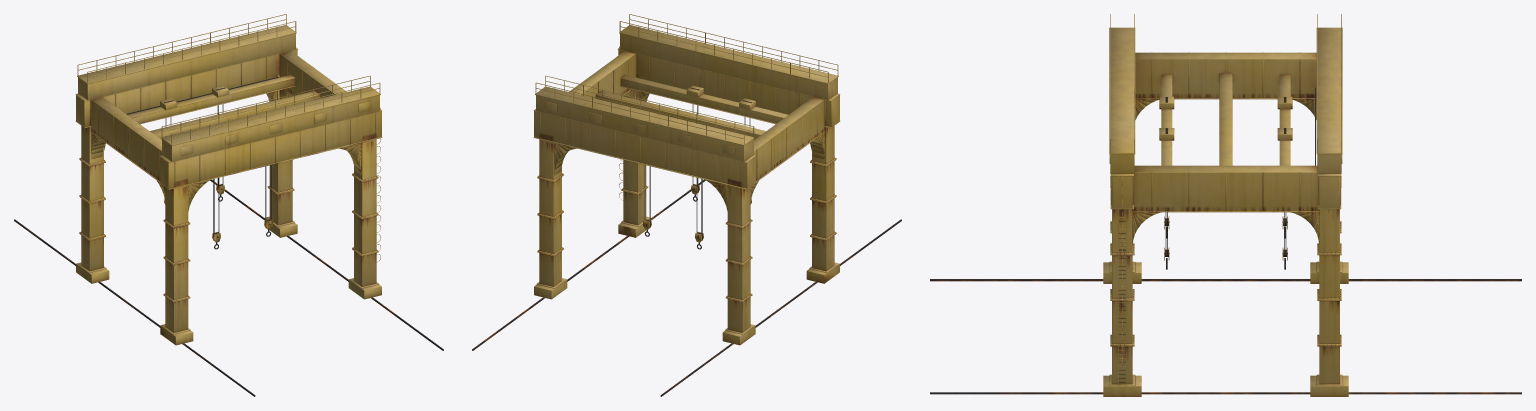
Rendered from port_gantry.glb.
3 views of the same model, side by side, from view 1: azimuth 30°, elevation 25°; view 2: azimuth 150°, elevation 25°; view 3: azimuth 270°, elevation 25° (orthographic). The views are drawn at different scales.
Visible parts, largest first — view 1: gantry; view 2: gantry; view 3: gantry.
Boxes of the visible parts, left/top/right/bottom form: gantry: left=14, top=14, right=443, bottom=396; gantry: left=472, top=14, right=901, bottom=396; gantry: left=930, top=14, right=1521, bottom=396.
Size of the model in its own units: 20.83 by 19.48 by 40.
Materials: 1 (1 with a texture image).
